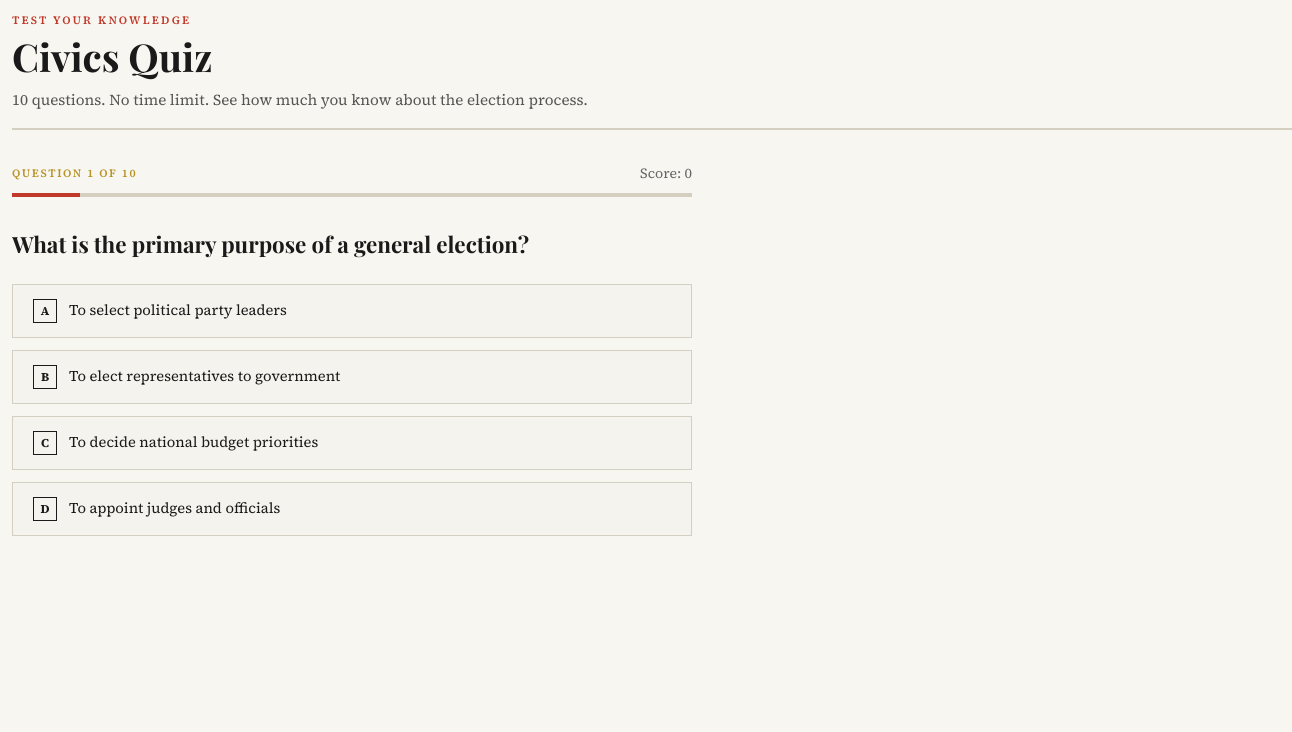
Quiz Component › allows selecting an answer and shows feedback
The width and height of the screenshot is (1292, 732).
# Find an option button (they have letters A, B, C, D)
Click the button "A To select political party leaders". click: [178, 310]
box: [12,284,692,338]
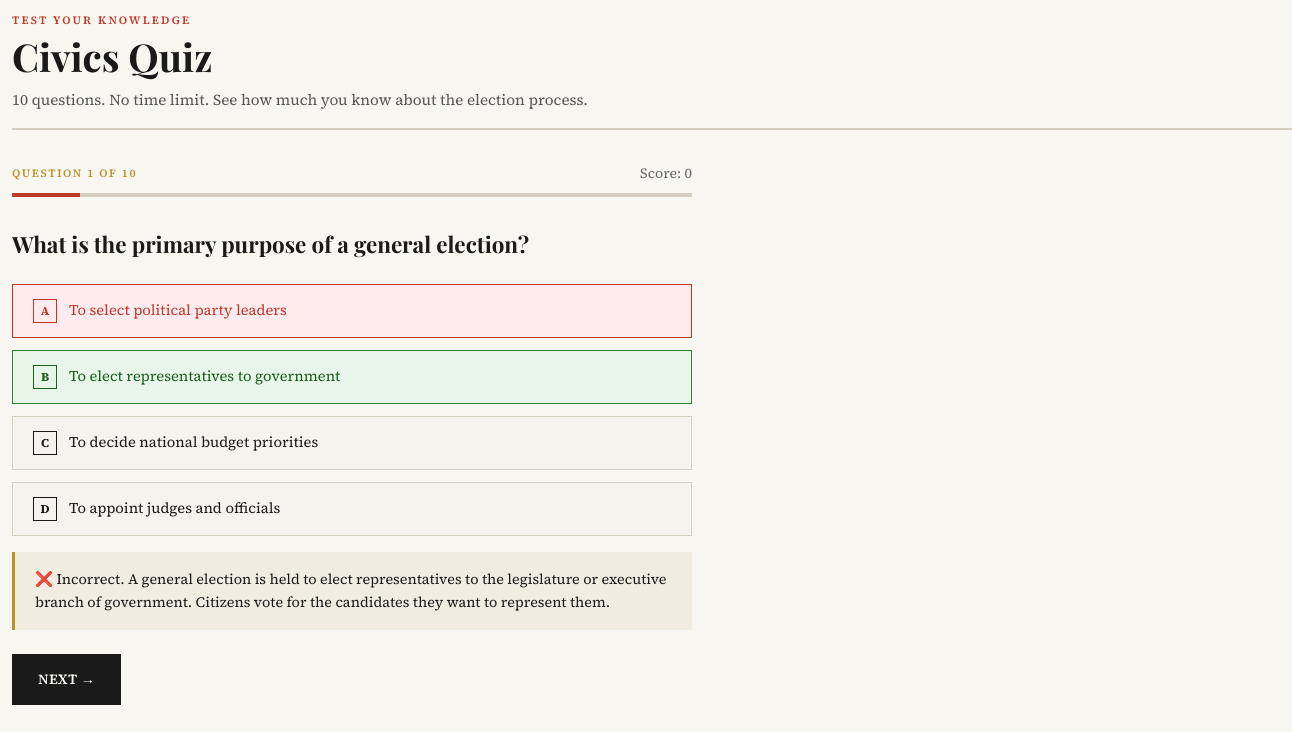
Now the button "Next →" is shown, box [12,654,121,705]
